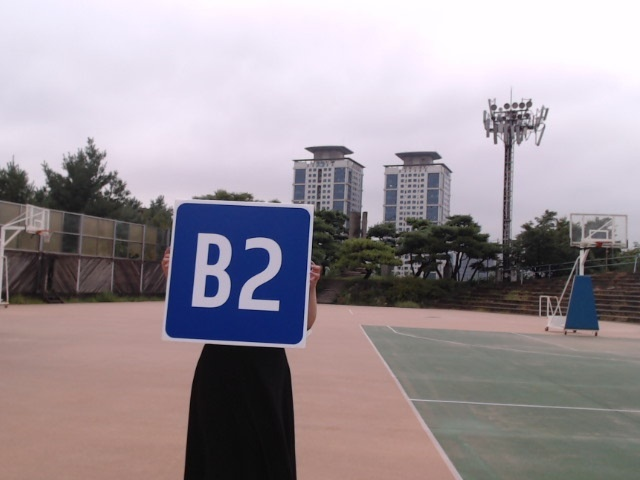delivery_b2: (164, 201, 312, 348)
